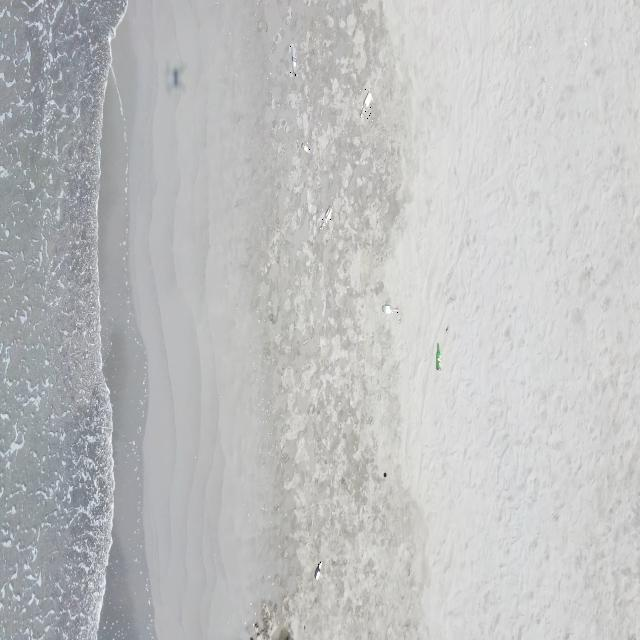glass: (359, 89, 374, 121), (320, 205, 334, 231), (290, 46, 299, 77), (435, 343, 442, 370), (382, 304, 399, 315), (314, 562, 322, 584), (300, 143, 312, 154)
